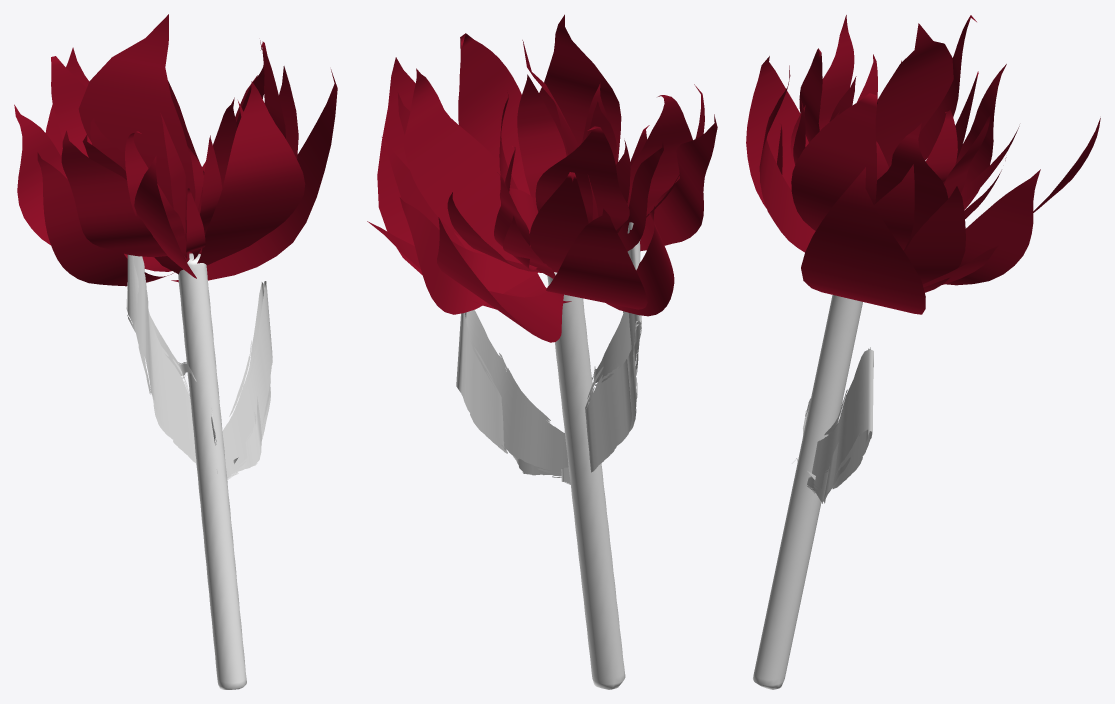
File: BLUME.fbx
3 views of the same model, side by side, from view 1: azimuth 30°, elevation 25°; view 2: azimuth 150°, elevation 25°; view 3: azimuth 270°, elevation 25° (orthographic). The views are drawn at different scales.
Visible parts, largest first — view 1: Ribbon (×20), ReferenceModel_Selection_3; view 2: Ribbon (×25), ReferenceModel_Selection_3; view 3: Ribbon (×20), ReferenceModel_Selection_3.
Part boxes in pixels (left/top/right/bottom): Ribbon (×20): left=14, top=14, right=337, bottom=479; ReferenceModel_Selection_3: left=178, top=253, right=246, bottom=689; Ribbon (×25): left=367, top=14, right=717, bottom=484; ReferenceModel_Selection_3: left=547, top=272, right=625, bottom=689; Ribbon (×20): left=746, top=15, right=1100, bottom=503; ReferenceModel_Selection_3: left=753, top=295, right=862, bottom=689.
Bounding box in the file's own units: 22.15 × 46.95 × 22.66.
Materials: 3 (1 with a texture image).
